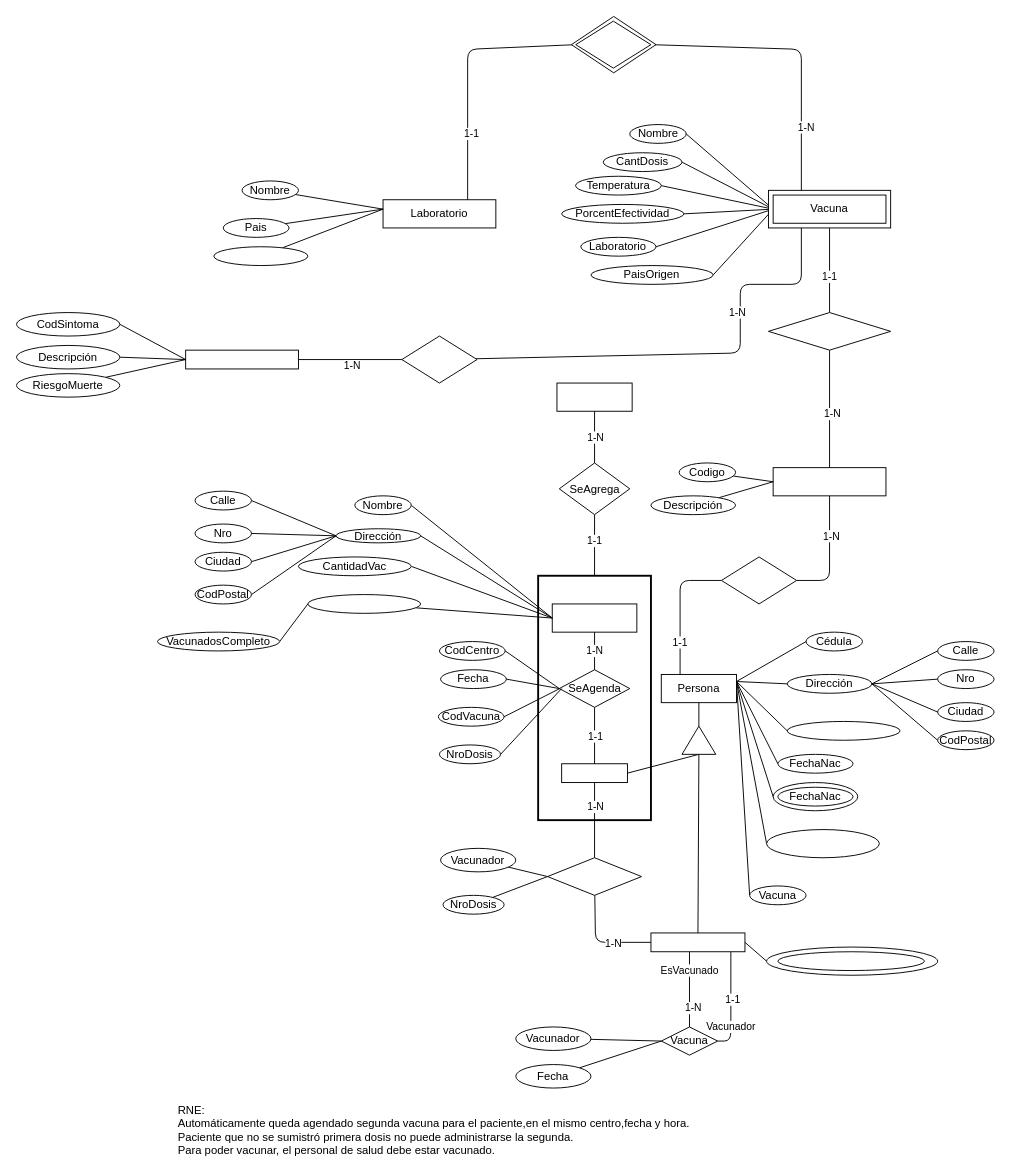
The diagram is 1011 pixels wide and 1175 high, and some of its shapes have lost their labels. The shapes that lost their labels are listed below. From the top down, each one's centre as x and y in pixels, then its label:
pixel 613 44: Produce
pixel 260 256: Telefonos
pixel 829 331: LeCorresponde
pixel 241 359: Síntoma
pixel 439 359: Tiene
pixel 594 396: Registro
pixel 829 481: GruooVacunación
pixel 759 580: EsParteDe
pixel 364 603: AgendadosDiario
pixel 594 617: Centro vacunación
pixel 843 730: NombreCompleto
pixel 594 773: Paciente
pixel 822 843: GrupoVacunación
pixel 594 876: Suministró
pixel 697 942: PersonalSalud
pixel 850 961: NombreEspecialidad
